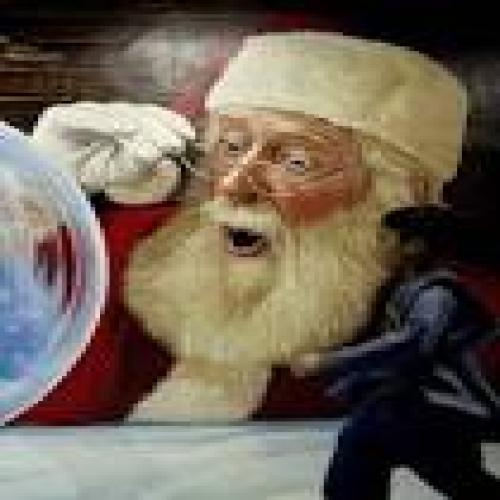Santa: (0, 23, 492, 418)
